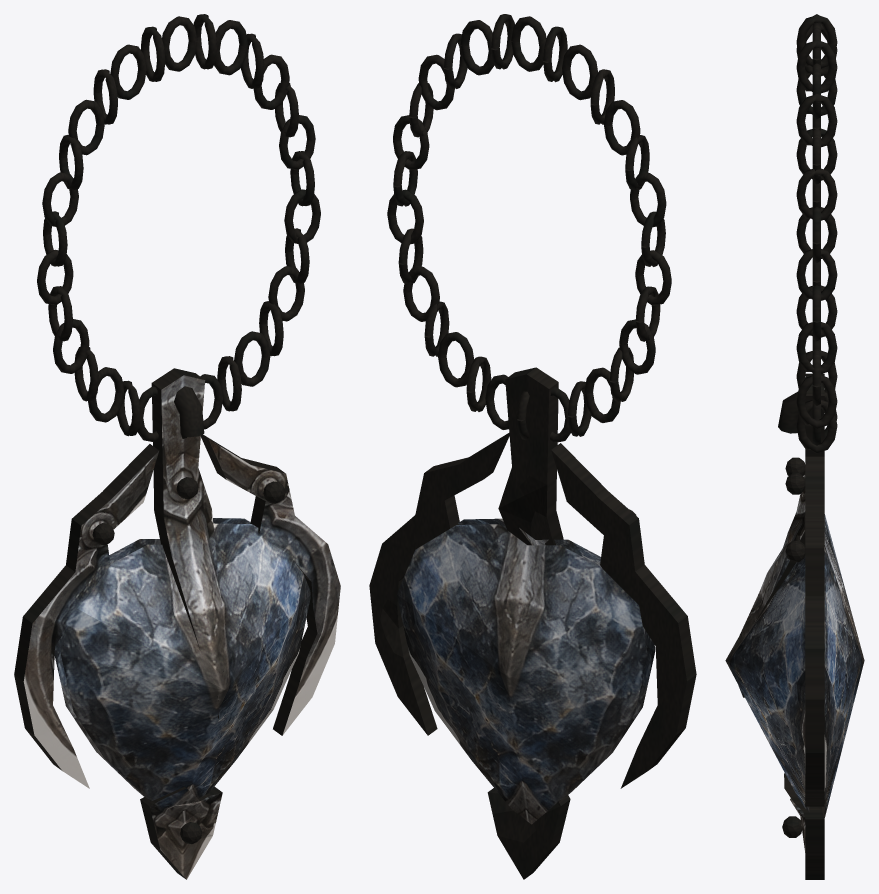
Rendered from wardenheart.glb.
3 views of the same model, side by side, from view 1: azimuth 30°, elevation 25°; view 2: azimuth 150°, elevation 25°; view 3: azimuth 270°, elevation 25° (orthographic).
Parts seen in each view (by area): view 1: Faceted stone heart, Left iron claw, Central forged talon, Right iron claw, Lower socket, Pendant suspension bail, Linked suspension chain, Linked suspension chain.012, Linked suspension chain.028, Linked suspension chain.026, Linked suspension chain.002, Linked suspension chain.024 (+21 smaller); view 2: Faceted stone heart, Left iron claw, Right iron claw, Central forged talon, Lower socket, Linked suspension chain, Linked suspension chain.028, Linked suspension chain.012, Linked suspension chain.026, Linked suspension chain.002, Linked suspension chain.024, Linked suspension chain.020 (+20 smaller); view 3: Faceted stone heart, Right iron claw, Central forged talon, Lower socket, Linked suspension chain.011, Linked suspension chain.003, Linked suspension chain.001, Linked suspension chain.005, Linked suspension chain.009, Linked suspension chain.007, Linked suspension chain.029, Linked suspension chain.013 (+17 smaller).
Part boxes in pixels (x1=…): Faceted stone heart: x1=54, y1=518, x2=310, y2=812; Left iron claw: x1=14, y1=444, x2=159, y2=788; Central forged talon: x1=151, y1=368, x2=225, y2=718; Right iron claw: x1=201, y1=434, x2=340, y2=735; Lower socket: x1=140, y1=786, x2=222, y2=879; Pendant suspension bail: x1=174, y1=386, x2=204, y2=437; Linked suspension chain: x1=162, y1=16, x2=197, y2=71; Linked suspension chain.012: x1=234, y1=331, x2=270, y2=386; Linked suspension chain.028: x1=110, y1=44, x2=146, y2=99; Linked suspension chain.026: x1=68, y1=99, x2=104, y2=155; Linked suspension chain.002: x1=214, y1=20, x2=247, y2=75; Linked suspension chain.024: x1=42, y1=172, x2=78, y2=226; Faceted stone heart: x1=396, y1=518, x2=655, y2=824; Left iron claw: x1=551, y1=443, x2=696, y2=788; Right iron claw: x1=369, y1=433, x2=509, y2=735; Central forged talon: x1=498, y1=367, x2=563, y2=545; Lower socket: x1=487, y1=788, x2=570, y2=879; Linked suspension chain: x1=511, y1=16, x2=546, y2=71; Linked suspension chain.028: x1=562, y1=44, x2=597, y2=100; Linked suspension chain.012: x1=438, y1=332, x2=474, y2=387; Linked suspension chain.026: x1=604, y1=100, x2=640, y2=155; Linked suspension chain.002: x1=460, y1=20, x2=494, y2=75; Linked suspension chain.024: x1=630, y1=172, x2=666, y2=227; Linked suspension chain.020: x1=619, y1=319, x2=655, y2=374; Faceted stone heart: x1=725, y1=514, x2=864, y2=818; Right iron claw: x1=799, y1=456, x2=824, y2=806; Central forged talon: x1=734, y1=373, x2=824, y2=697; Lower socket: x1=784, y1=773, x2=824, y2=879; Linked suspension chain.011: x1=796, y1=375, x2=837, y2=428; Linked suspension chain.003: x1=796, y1=94, x2=837, y2=147; Linked suspension chain.001: x1=796, y1=40, x2=837, y2=93; Linked suspension chain.005: x1=796, y1=168, x2=837, y2=220; Linked suspension chain.009: x1=796, y1=322, x2=837, y2=373; Linked suspension chain.007: x1=796, y1=249, x2=837, y2=300; Linked suspension chain.029: x1=796, y1=15, x2=837, y2=68; Linked suspension chain.013: x1=796, y1=399, x2=837, y2=453.
Bounding box in the file's own units: 0.0733 × 0.19 × 0.028.
2 materials, 2 textured.
